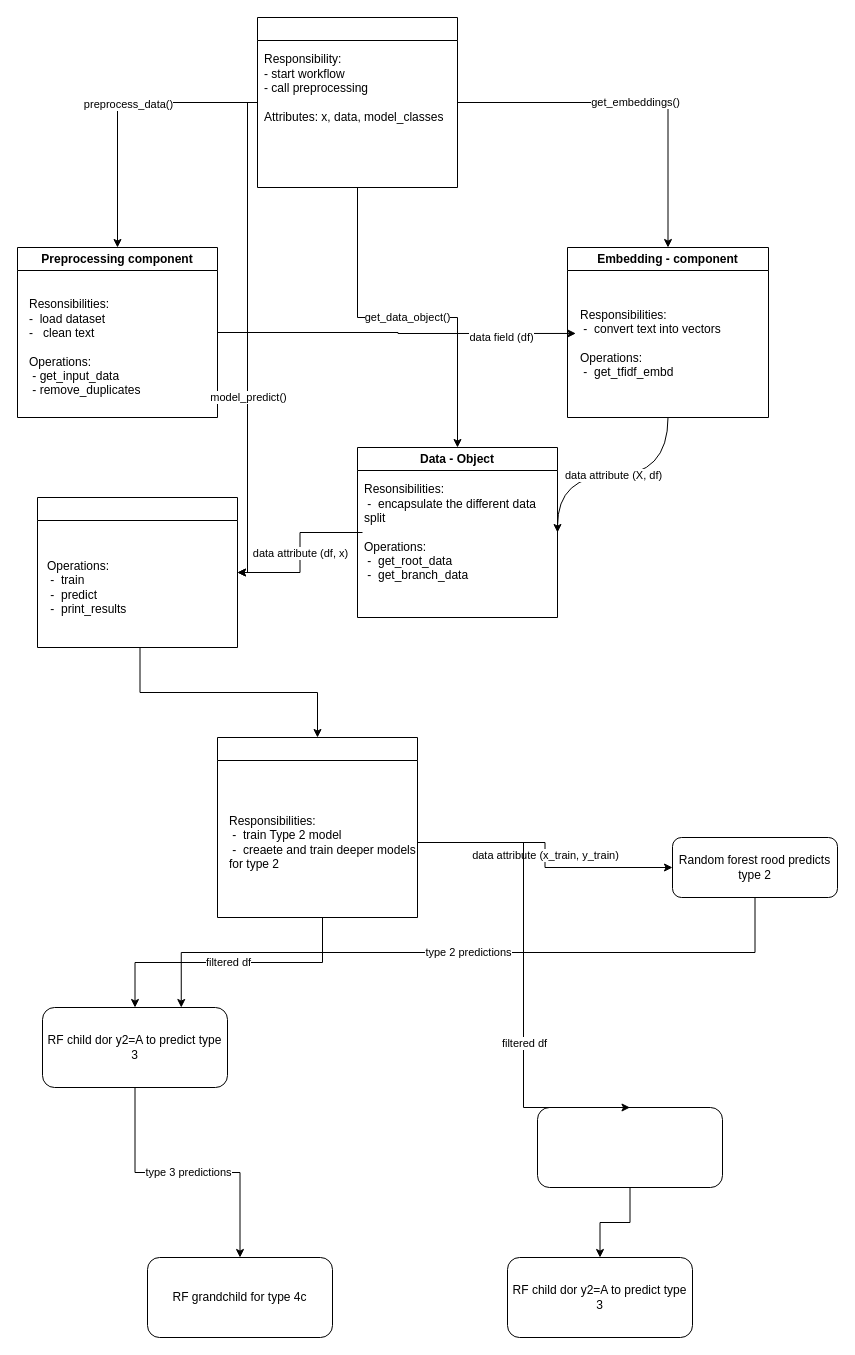
Image size: 855x1355. Some labels were removed from this diagram. Each missing label, with the box of its shape:
Base model - Interface: (36, 496, 238, 648)
HierarchyModel: (216, 736, 418, 918)
Pipeline (controller): (256, 16, 458, 188)
RF child for y2=A To predict Type 3: (536, 1106, 722, 1188)
